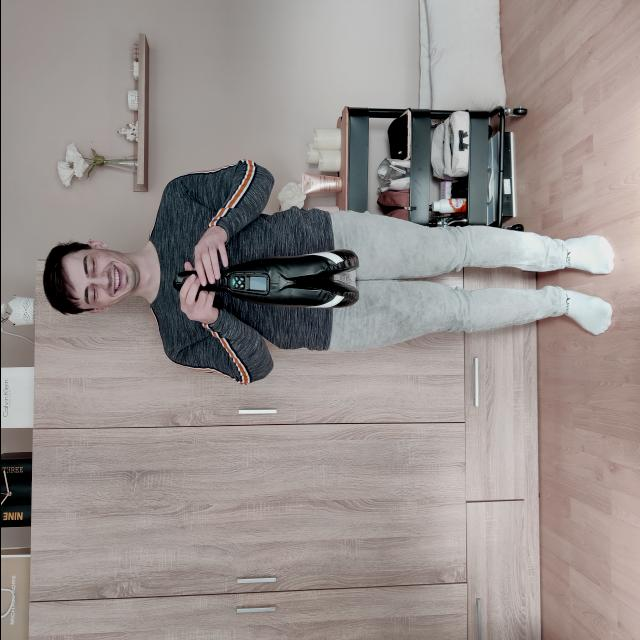paddle: (171, 248, 360, 310)
